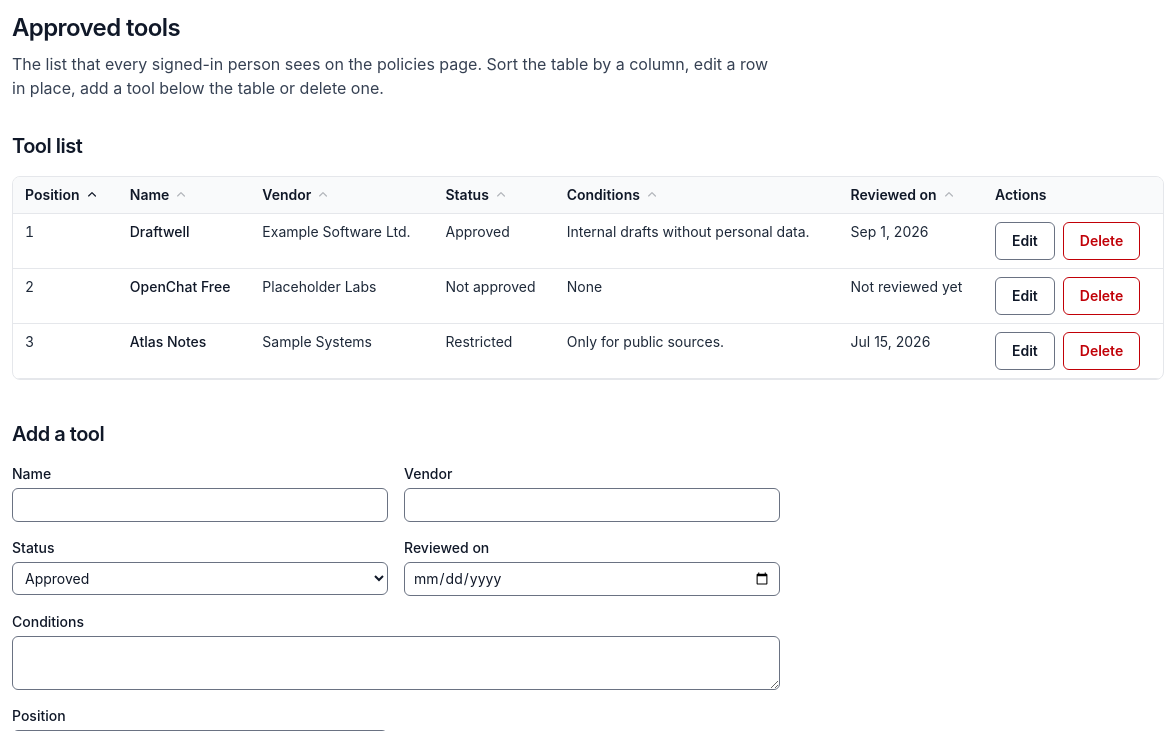
Test: the approved tools page › edits a row in place and sends the changed fields in the nested body
Click the button named "Edit Draftwell": [1025, 241] box [995,222,1055,260]
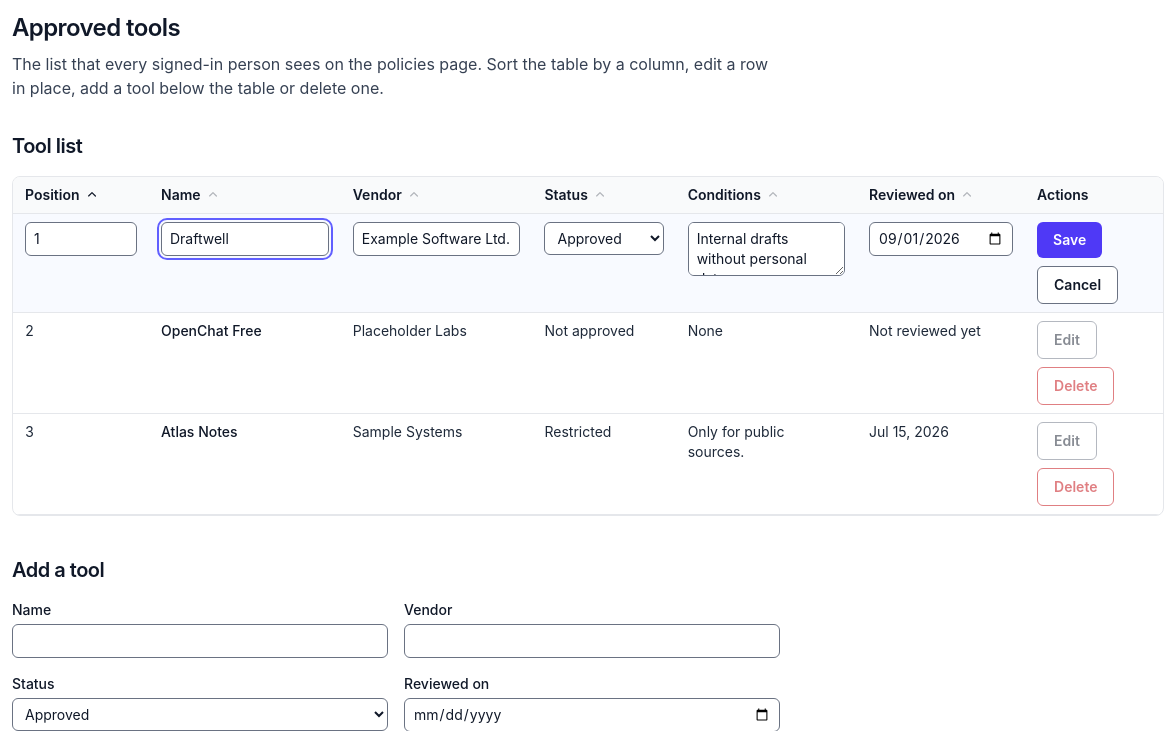
expect the 1st field named "Name" holds "Draftwell": met, box [161,222,329,256]
Replace the text in the 2nd field named "Vendor" with "Example Software GmbH": [437, 239] box [353,222,520,256]
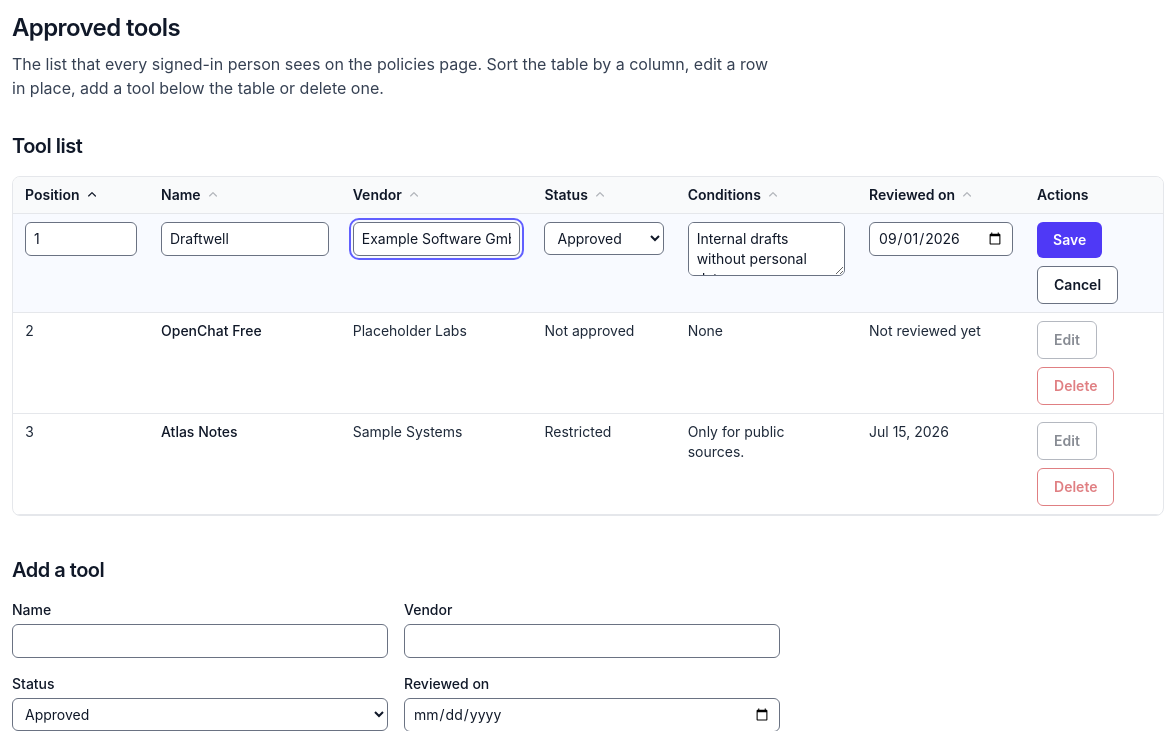
Select "Restricted" in the dropdown named "Status": [604, 238] box [544,222,664,255]
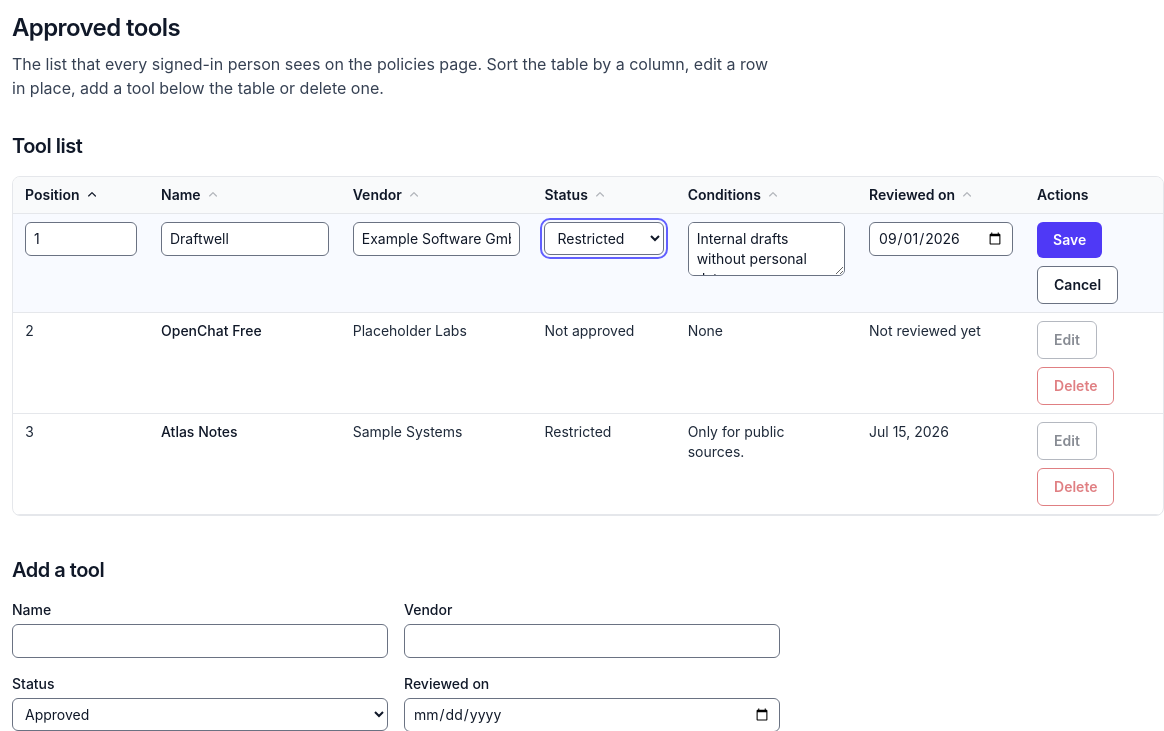
Clear the date field named "Reviewed on": [941, 239] box [869,222,1013,256]
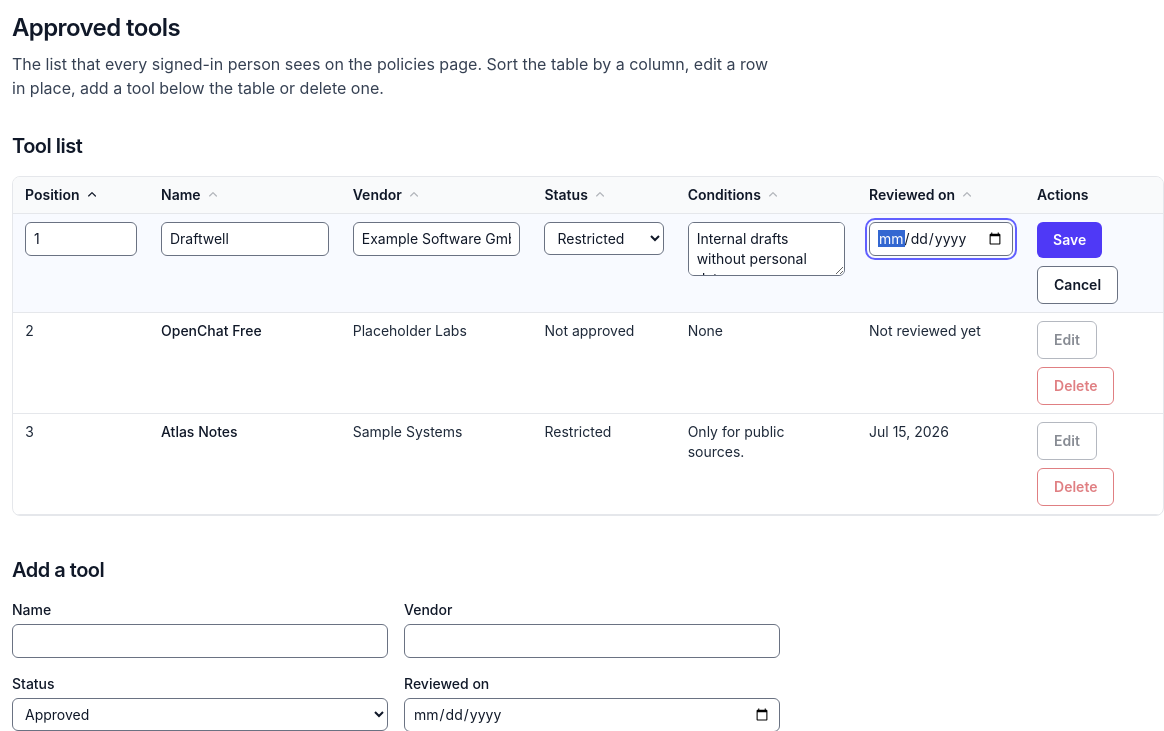
Click the button "Save": [1070, 240] box [1037,222,1102,258]
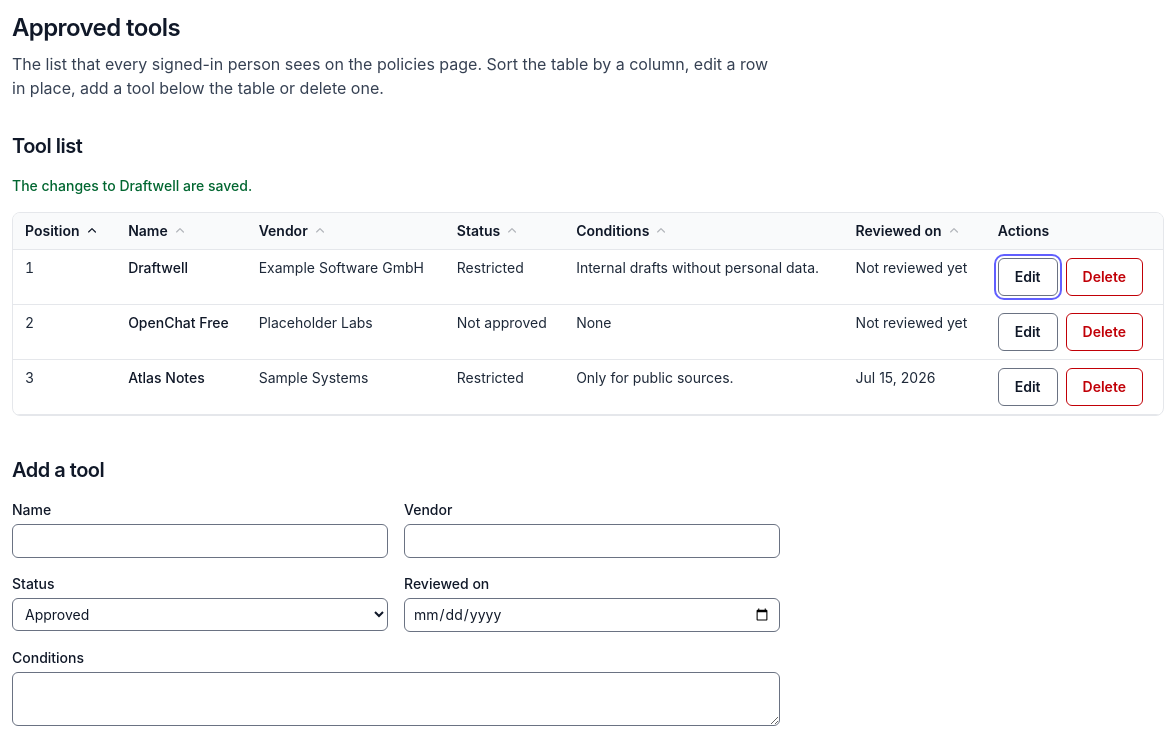
expect the text "The changes to Draftwell are saved." is shown: met, box [12,177,252,194]
expect the row that starts with "Draftwell" shows "Example Software GmbH": met, box [259,259,424,276]
expect the row that starts with "Draftwell" shows "Restricted": met, box [457,259,524,276]
